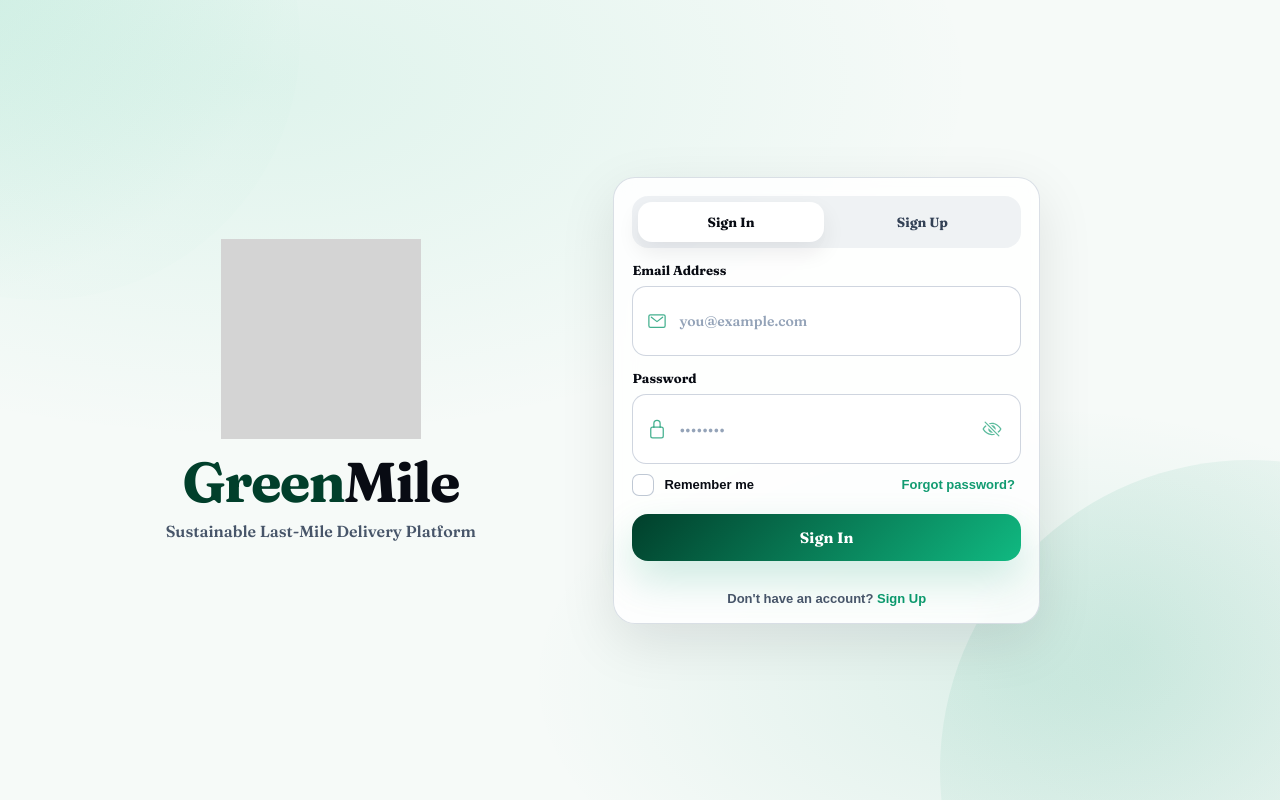
Scenario: Email validation › shows error for invalid email format
Type "notanemail" into the field with placeholder "you@example.com".
click(842, 320); type("notanemail")  # box [677, 310, 1006, 330]
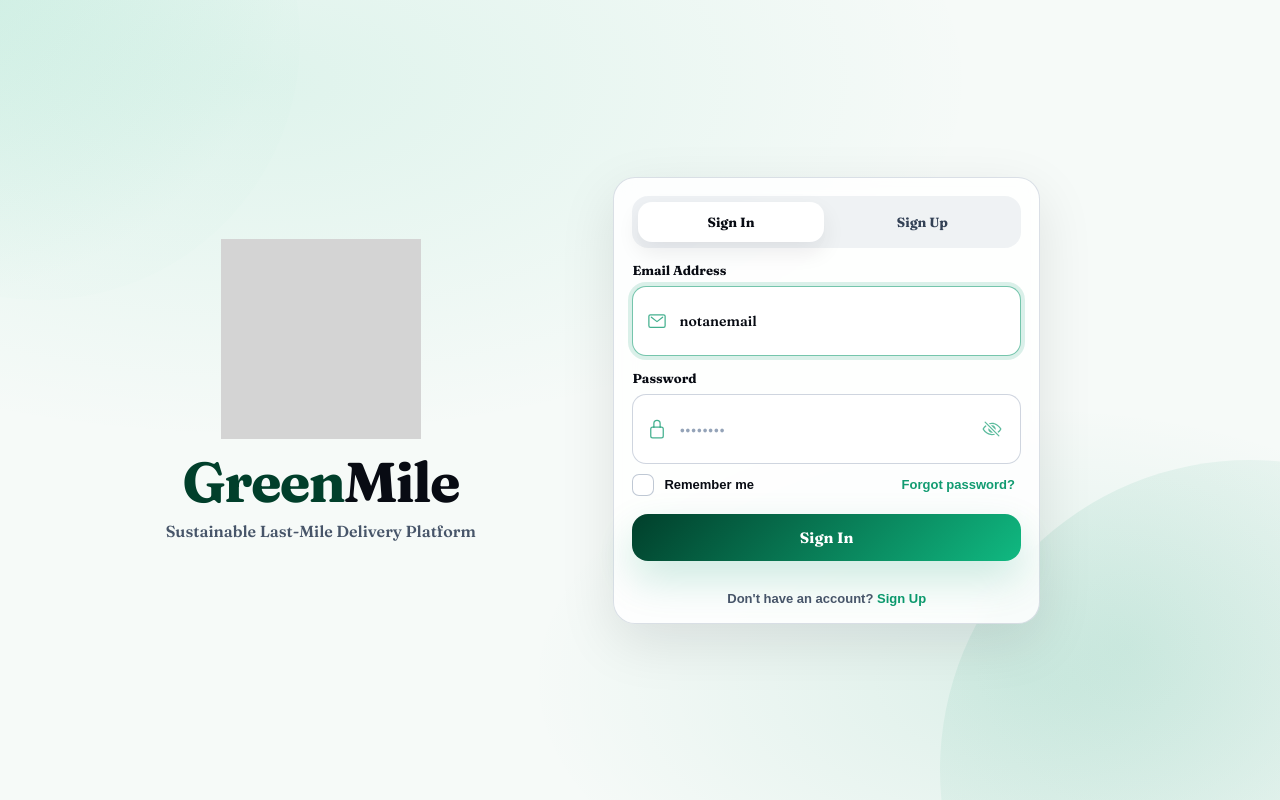
Type "somepass" into the password field with placeholder "••••••••".
click(823, 428); type("somepass")  # box [677, 418, 968, 438]
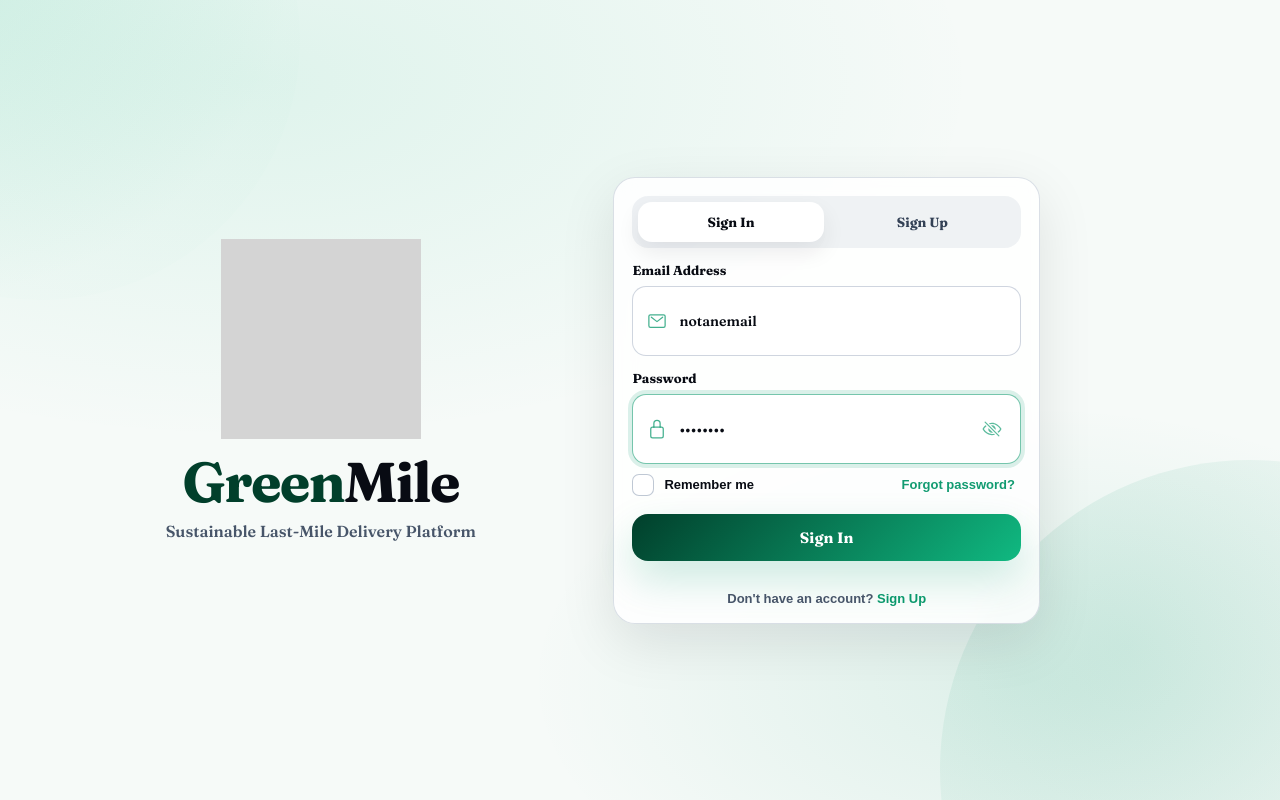
Click the button with class "gm-submit".
click(827, 537)  # box [632, 514, 1021, 560]
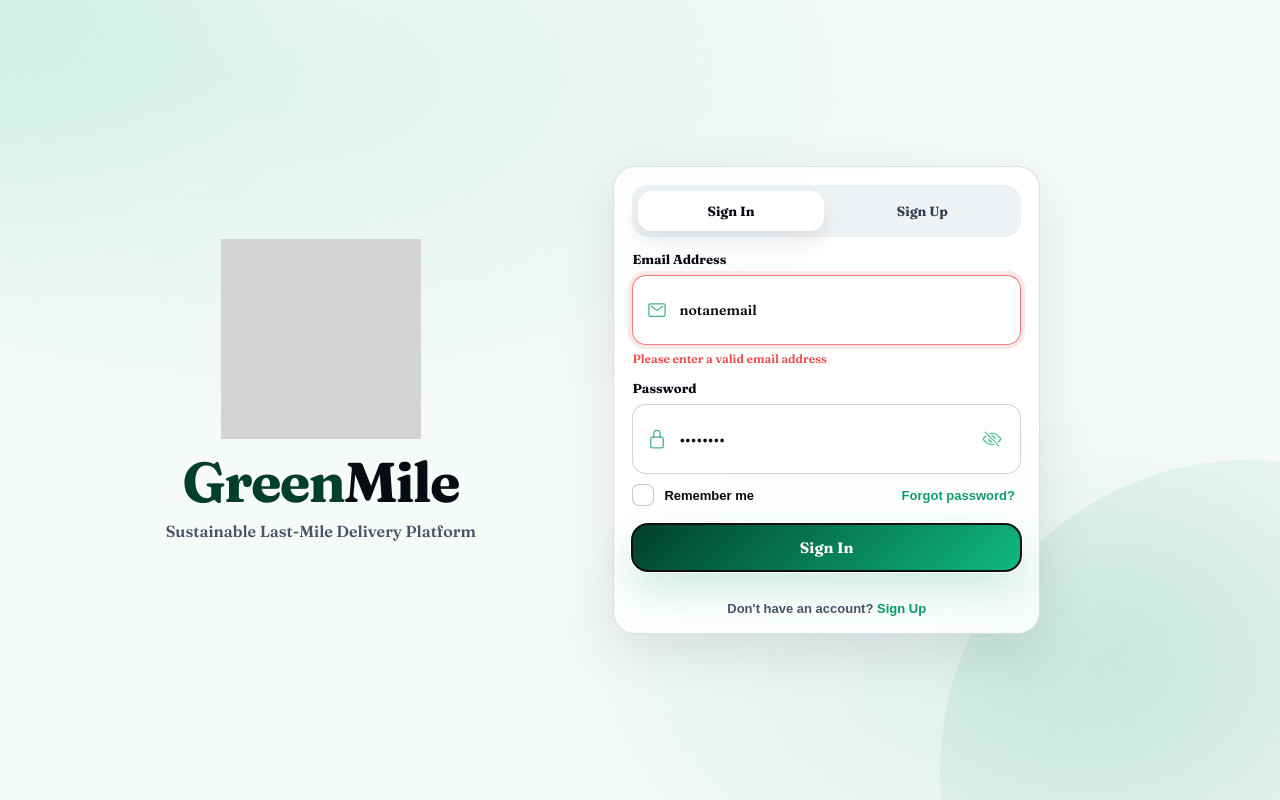
Expected: the text "Please enter a valid email address" is shown, [632, 351, 827, 366]
